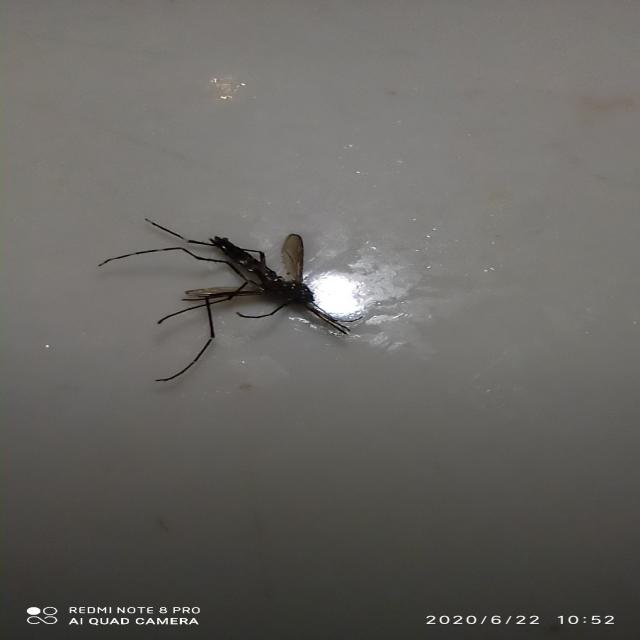albopictus: (91, 208, 366, 383)
